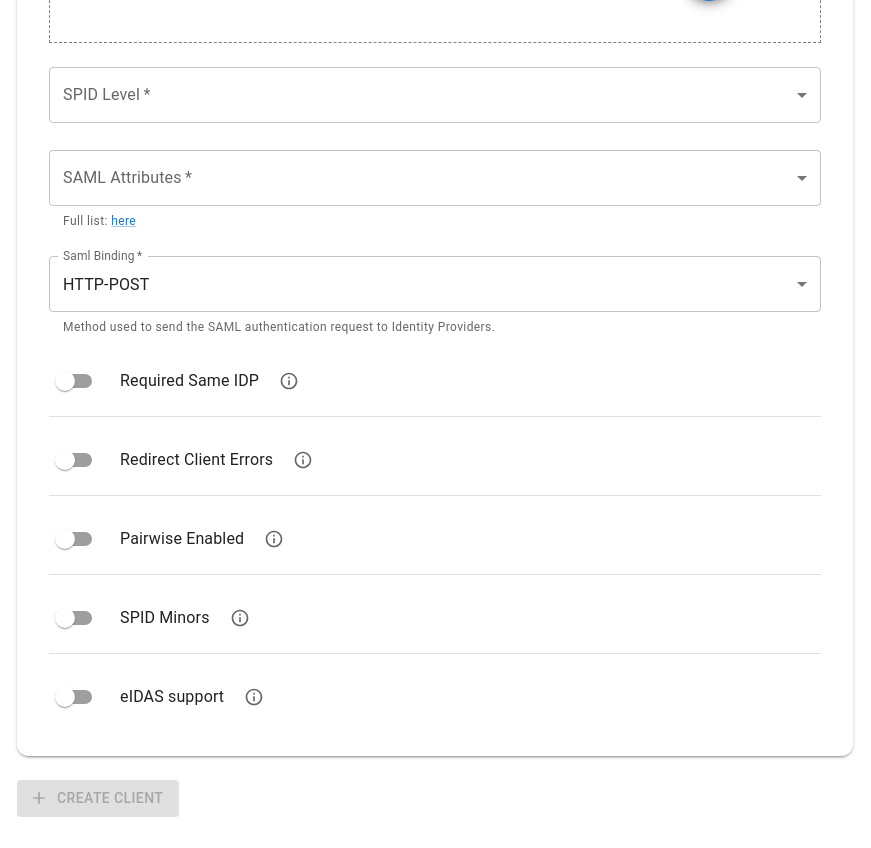
Test: Dashboard SPID Minors › shows Min Age, Max Age and Age Parent Auth fields when SPID Minors is enabled
(page scrolled)
Click the checkbox labelled "SPID Minors" at (132, 618), box [55,608,210,628]
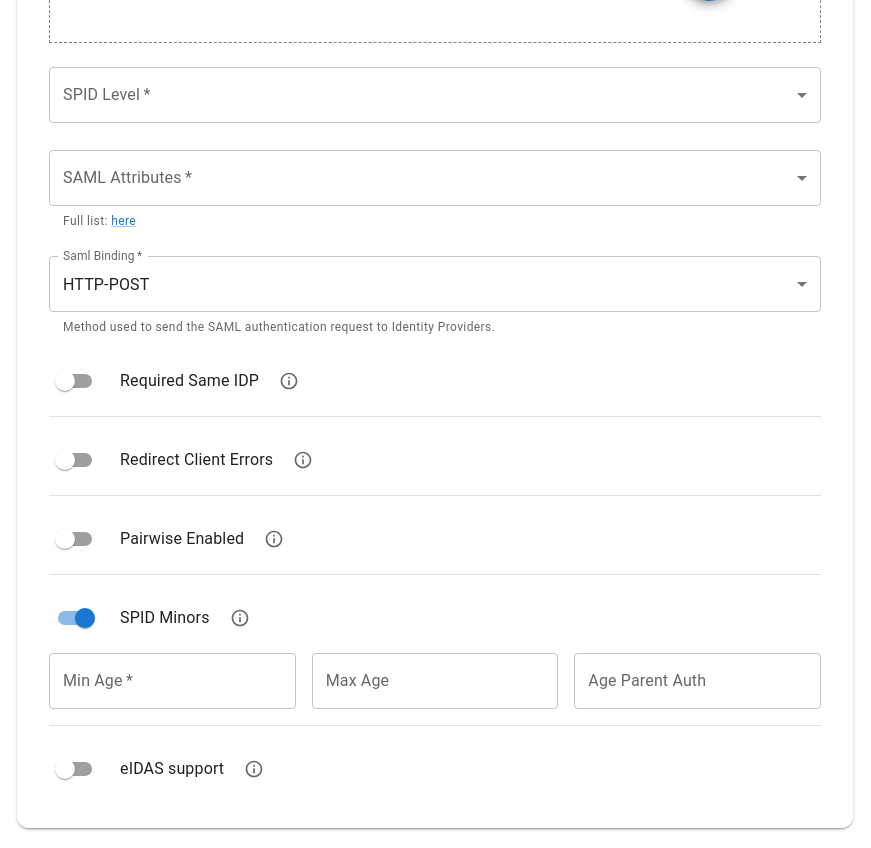
Now the number field labelled "Min Age *" is shown, box [49,653,296,709]
Now the number field labelled "Max Age" is shown, box [312,653,558,709]
Now the number field labelled "Age Parent Auth" is shown, box [574,653,821,709]
